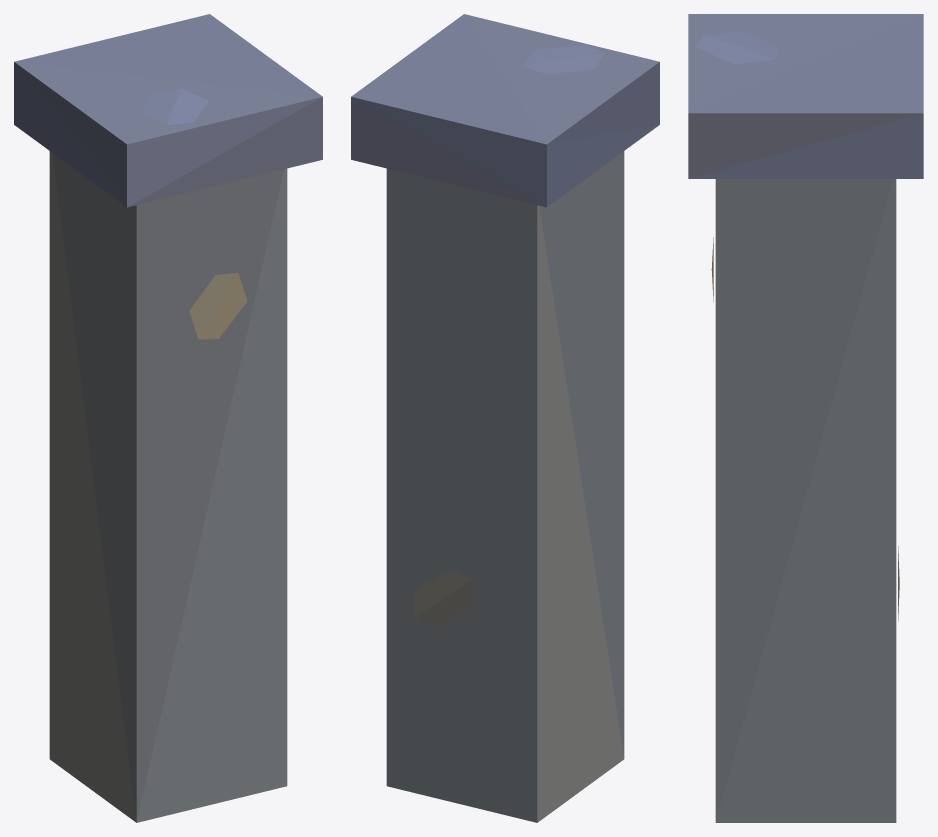
Rendered from HK_Bollard.glb.
3 views of the same model, side by side, from view 1: azimuth 30°, elevation 25°; view 2: azimuth 150°, elevation 25°; view 3: azimuth 270°, elevation 25° (orthographic). The views are drawn at different scales.
Parts seen in each view (by area): view 1: HK_Bollard; view 2: HK_Bollard; view 3: HK_Bollard.
Part boxes in pixels (<box>): HK_Bollard: <box>14,14,322,822</box>; HK_Bollard: <box>351,14,659,822</box>; HK_Bollard: <box>688,14,923,822</box>.
Size of the model in its own units: 0.26 by 0.8851 by 0.26.
